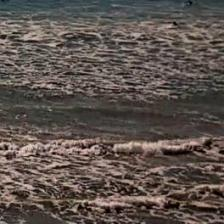surfer: (188, 0, 195, 6), (172, 21, 179, 27), (0, 0, 8, 4)
